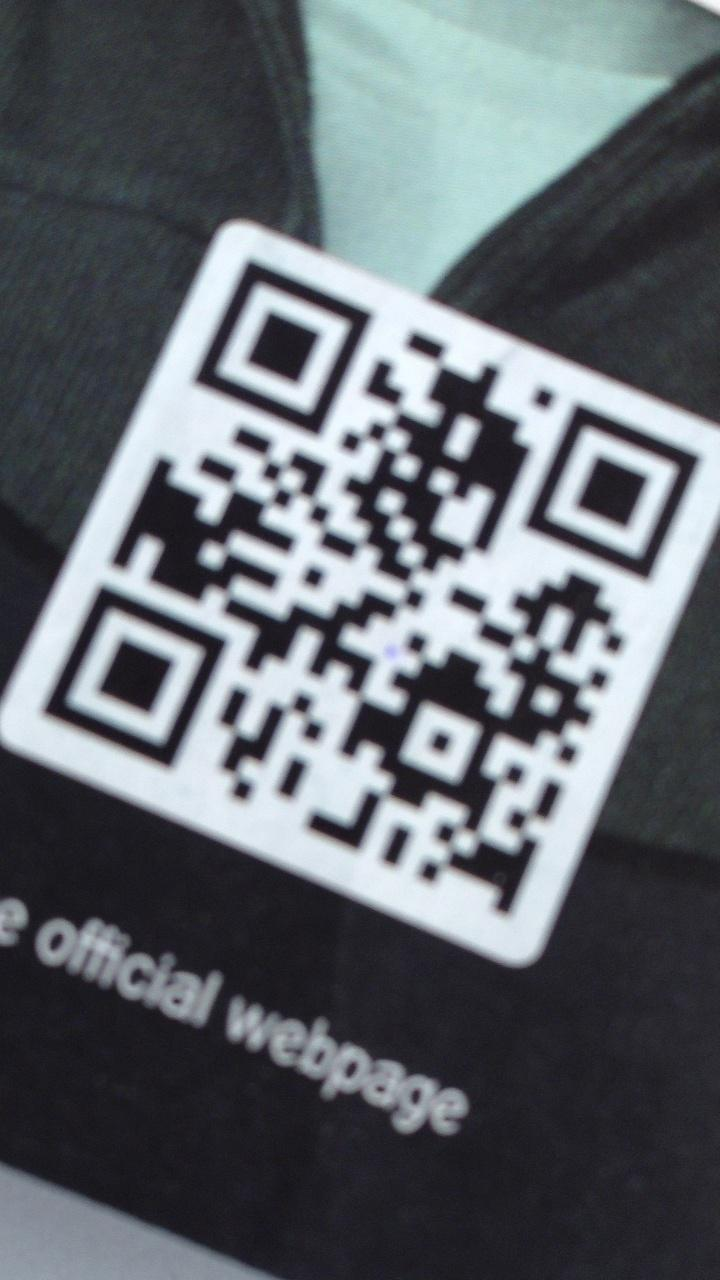Finder pattern: (46, 584, 225, 765), (532, 396, 700, 581), (201, 252, 372, 433)
